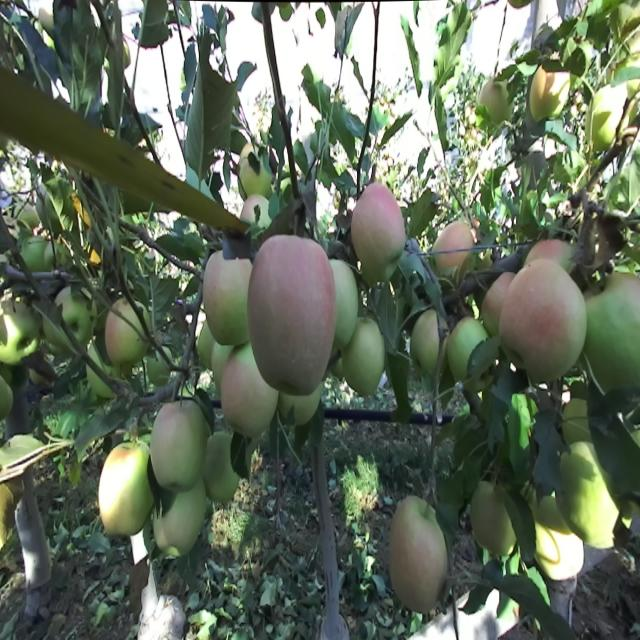apple: (247, 236, 336, 392), (499, 258, 587, 378), (389, 493, 448, 612), (587, 272, 640, 391), (557, 440, 615, 547), (352, 184, 406, 283), (221, 346, 277, 438), (152, 398, 207, 486), (100, 443, 154, 532), (203, 249, 250, 341), (531, 497, 584, 577), (154, 486, 205, 555), (470, 481, 514, 557), (344, 319, 383, 393), (105, 300, 149, 363), (412, 309, 446, 382), (0, 297, 37, 364), (430, 220, 472, 279), (586, 86, 627, 146), (332, 260, 358, 352), (56, 288, 95, 349), (207, 431, 239, 498), (448, 320, 486, 375), (530, 68, 569, 117), (87, 342, 120, 399), (240, 142, 272, 198), (483, 272, 510, 330), (478, 81, 511, 126), (278, 388, 321, 422), (240, 194, 270, 229), (148, 348, 172, 386), (212, 344, 229, 389), (200, 320, 213, 364)
